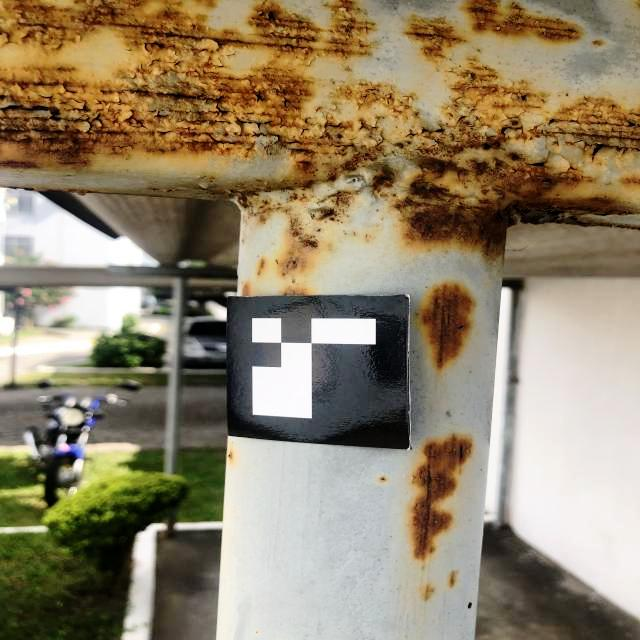Corrosion: (0, 0, 640, 296), (409, 434, 483, 564), (417, 280, 475, 376), (5, 184, 103, 195), (449, 570, 459, 587), (424, 585, 434, 600), (592, 38, 605, 48), (165, 187, 182, 194), (343, 64, 355, 73), (362, 233, 372, 240), (227, 452, 233, 461), (380, 476, 387, 482)
